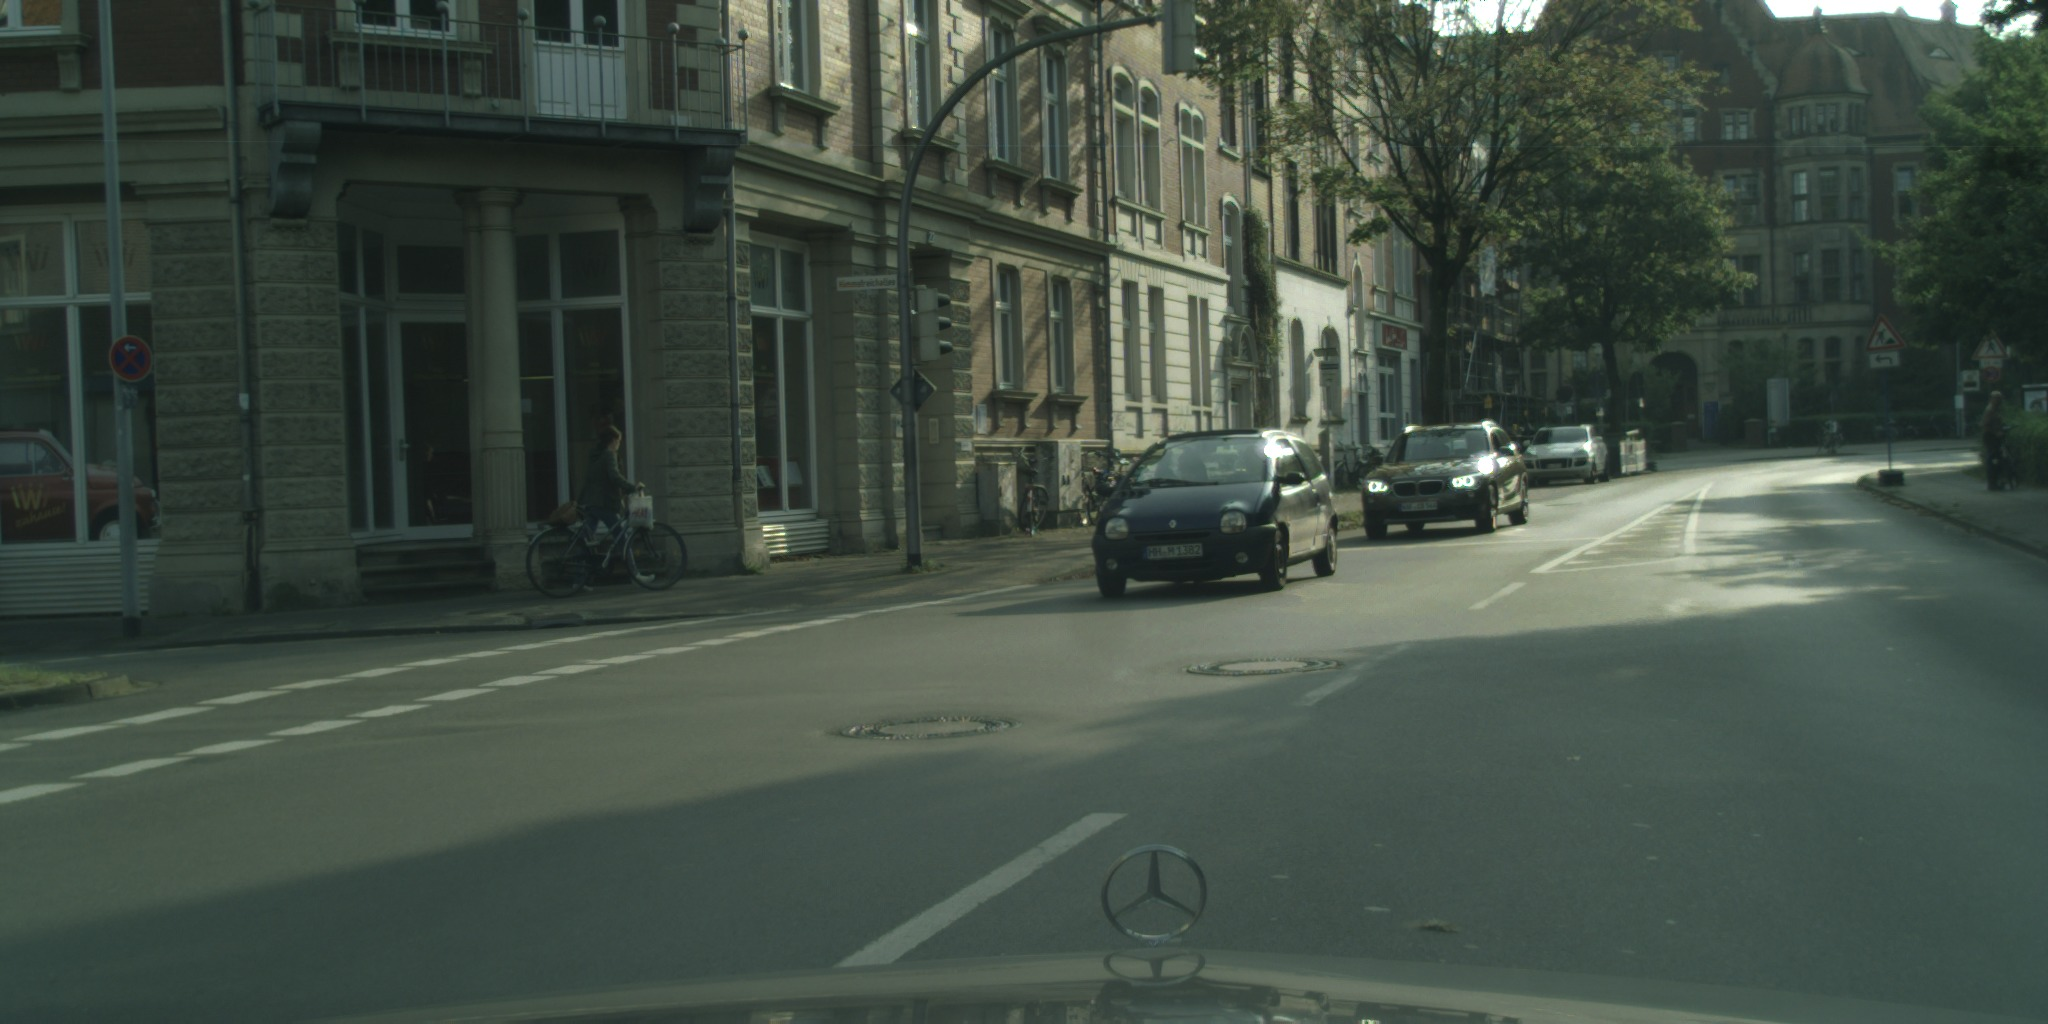bicycle: (523, 488, 687, 600), (1080, 447, 1144, 526), (1326, 439, 1386, 496), (1013, 448, 1050, 534), (1997, 425, 2023, 491), (1815, 417, 1847, 455)
car: (1090, 426, 1338, 599), (1363, 418, 1530, 540), (1516, 424, 1610, 488)
person: (574, 426, 656, 594), (1980, 389, 2006, 493), (1824, 414, 1836, 456)
